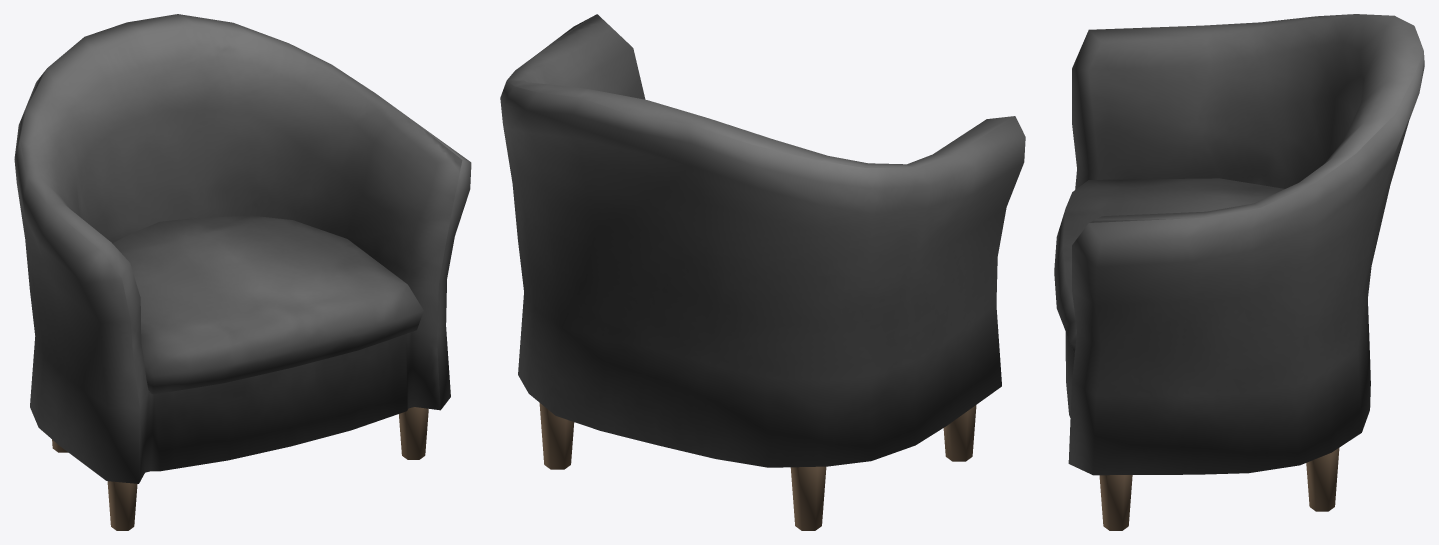
The model's file is Armchair.fbx.
3 renders of one model, left to right at view 1: azimuth 30°, elevation 25°; view 2: azimuth 150°, elevation 25°; view 3: azimuth 270°, elevation 25°, orthographic. The views are drawn at different scales.
Parts seen in each view (by area): view 1: Armchair; view 2: Armchair; view 3: Armchair.
Boxes of the visible parts, x1=… form: Armchair: x1=14, y1=14, x2=471, y2=530; Armchair: x1=500, y1=14, x2=1025, y2=530; Armchair: x1=1054, y1=14, x2=1424, y2=530.
Size of the model in its own units: 1.08 by 0.9614 by 0.8085.
